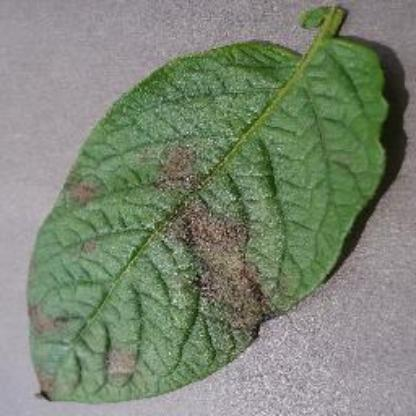Late-Blight: (26, 17, 393, 410)
